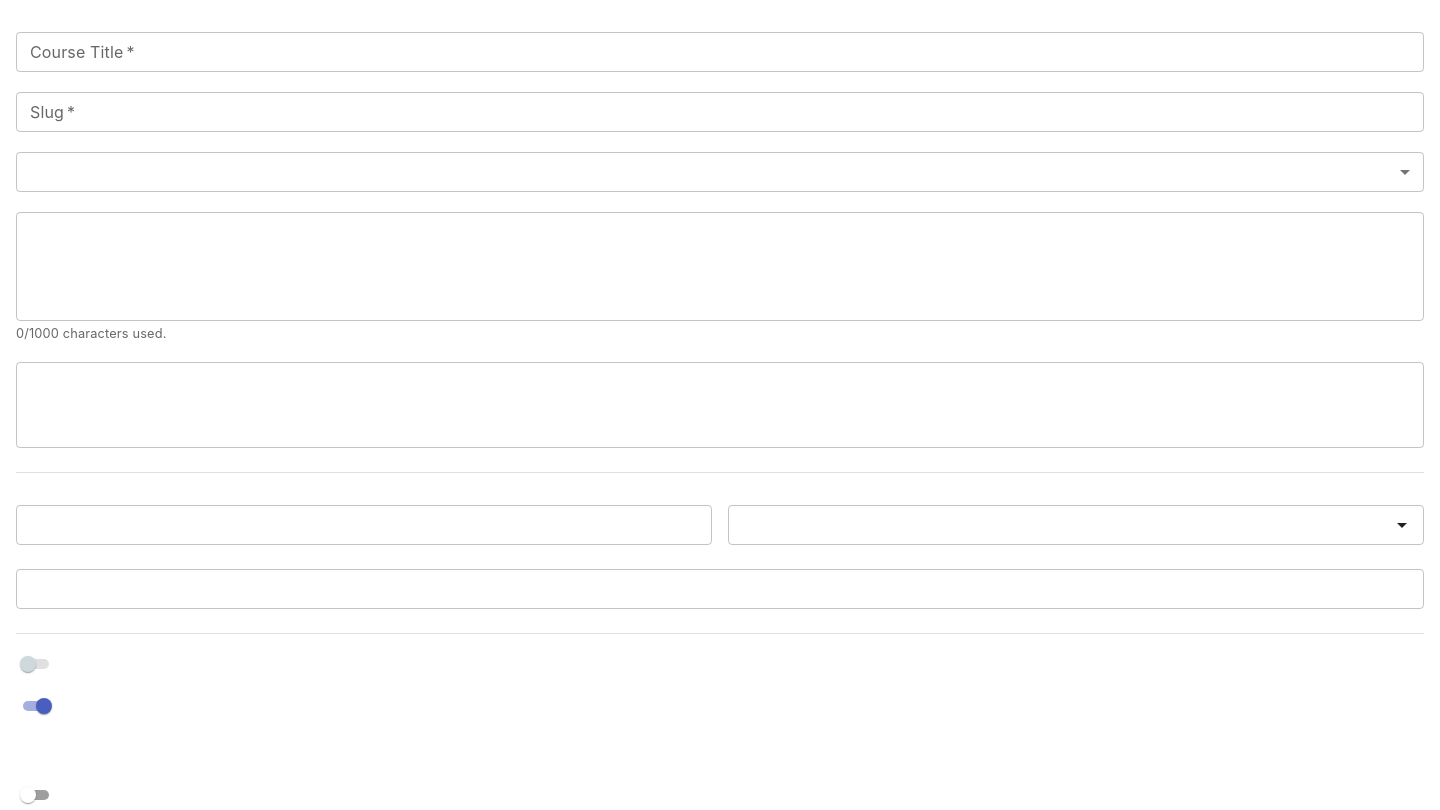
Test: CourseForm slug auto-population › auto-populates the slug from the title while the slug is untouched (create mode)
Type "My Great Course!" into the field labelled "Course Title *" at point(720, 52), box [16, 32, 1424, 72]
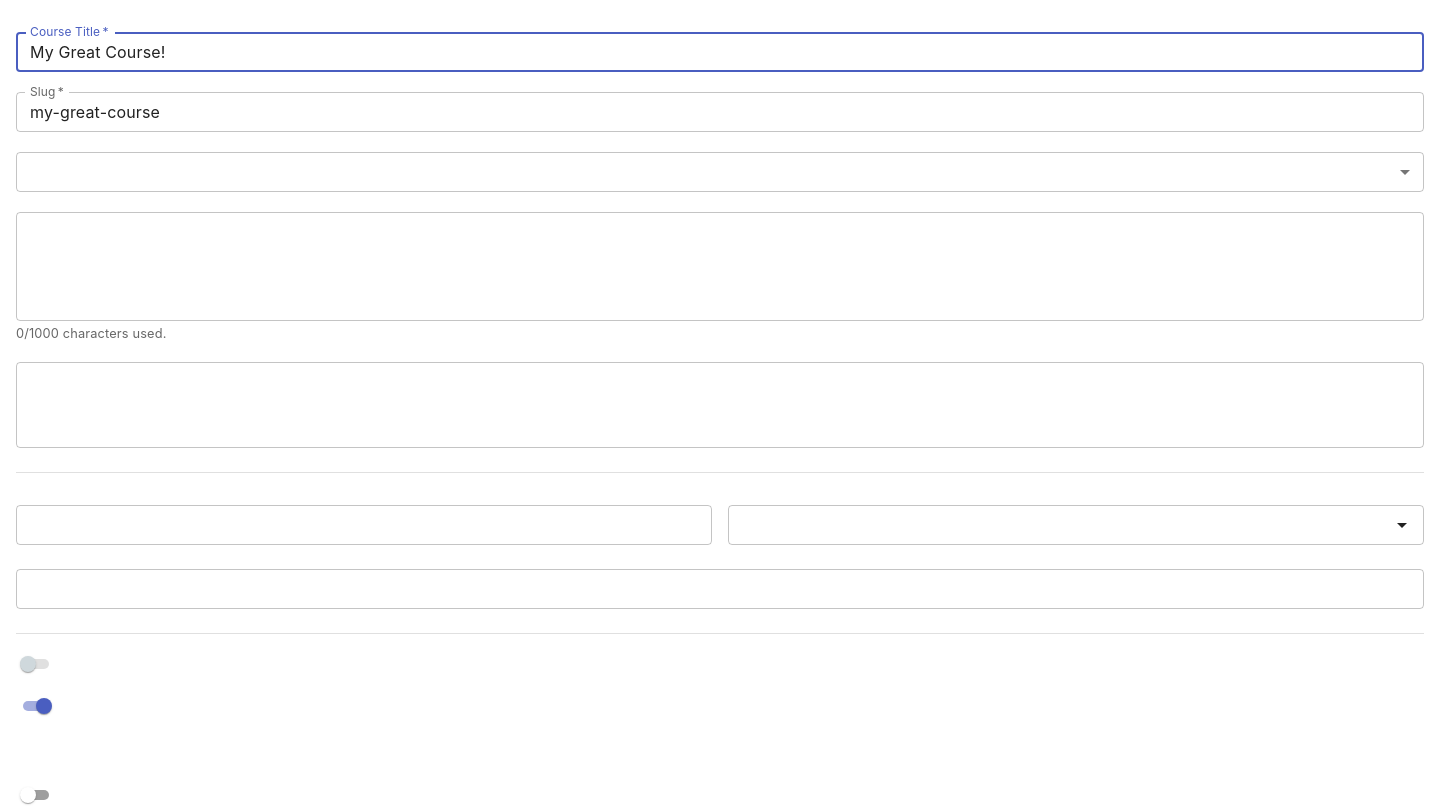
Check: the field labelled "Slug *" holds "my-great-course", box [16, 92, 1424, 132]
